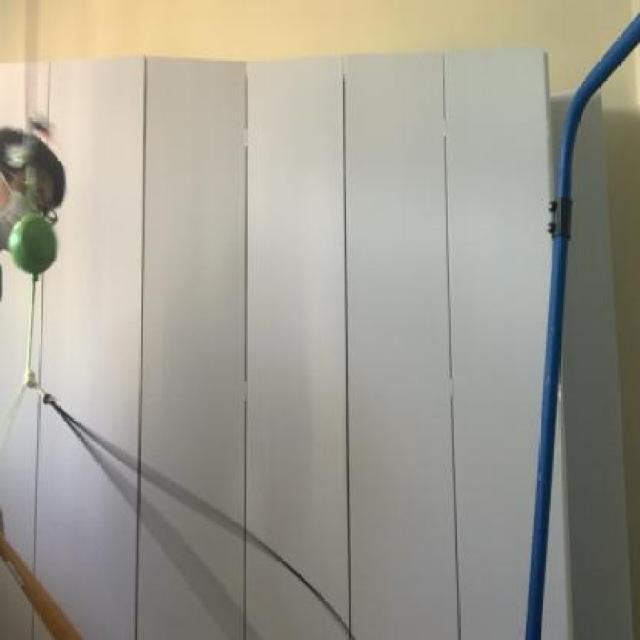baseball: (6, 210, 60, 282)
